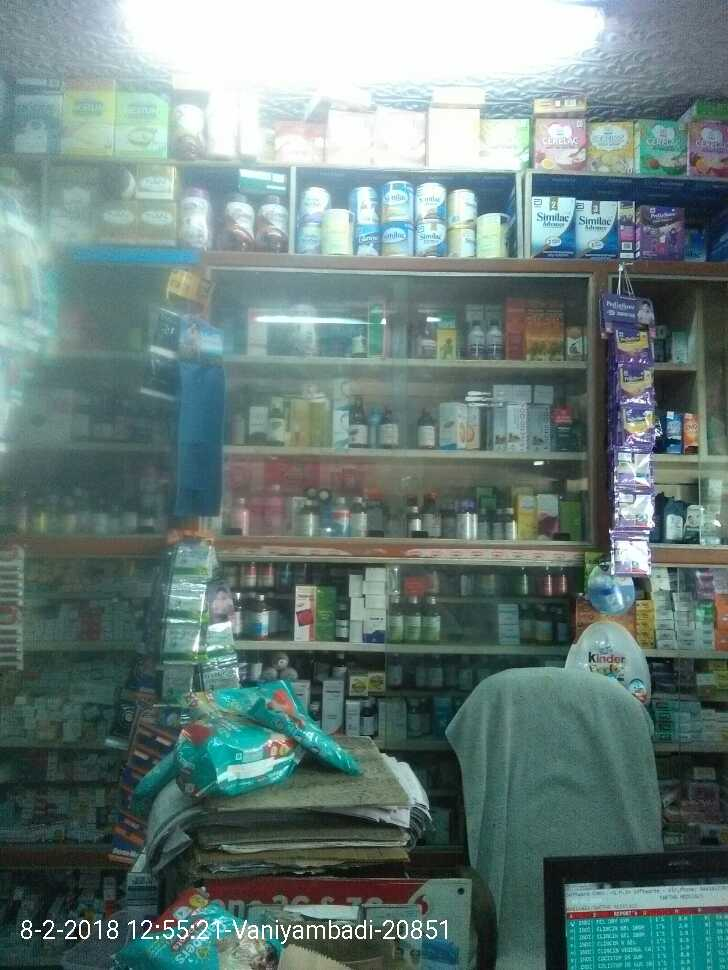reject: (287, 290, 451, 443)
